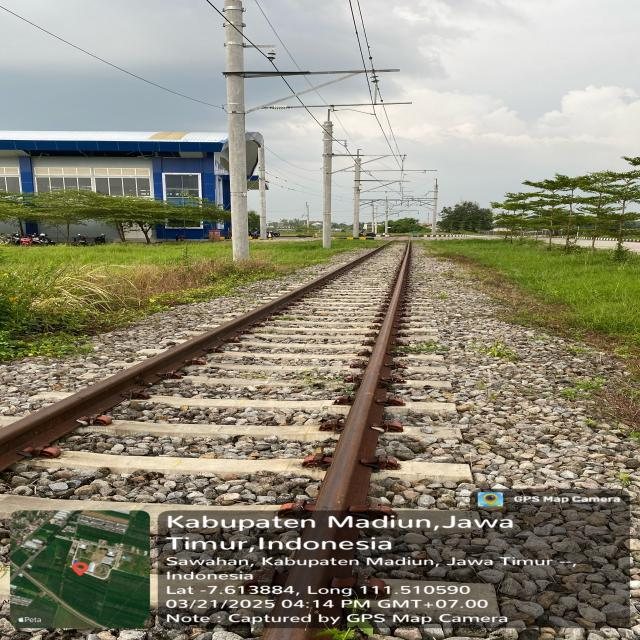rail-detection: (0, 246, 384, 470), (263, 244, 411, 640)
